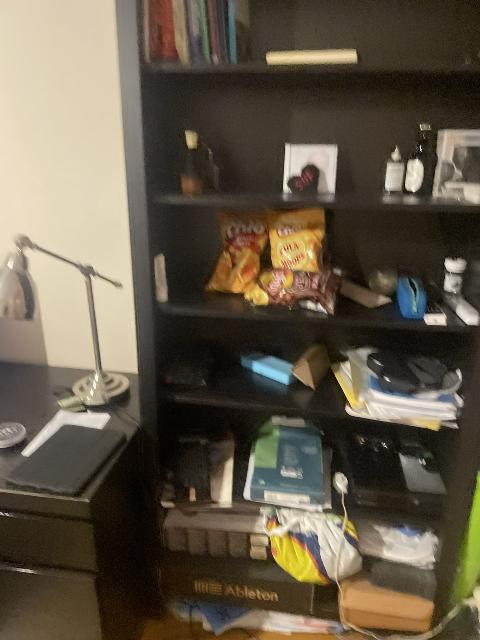Chio Cascaval 125g: (204, 209, 270, 297)
Chio Hula Hoops Cheese 70g: (265, 207, 327, 276)
Lays Beef Grilled Ribs 125g: (250, 265, 343, 314)
